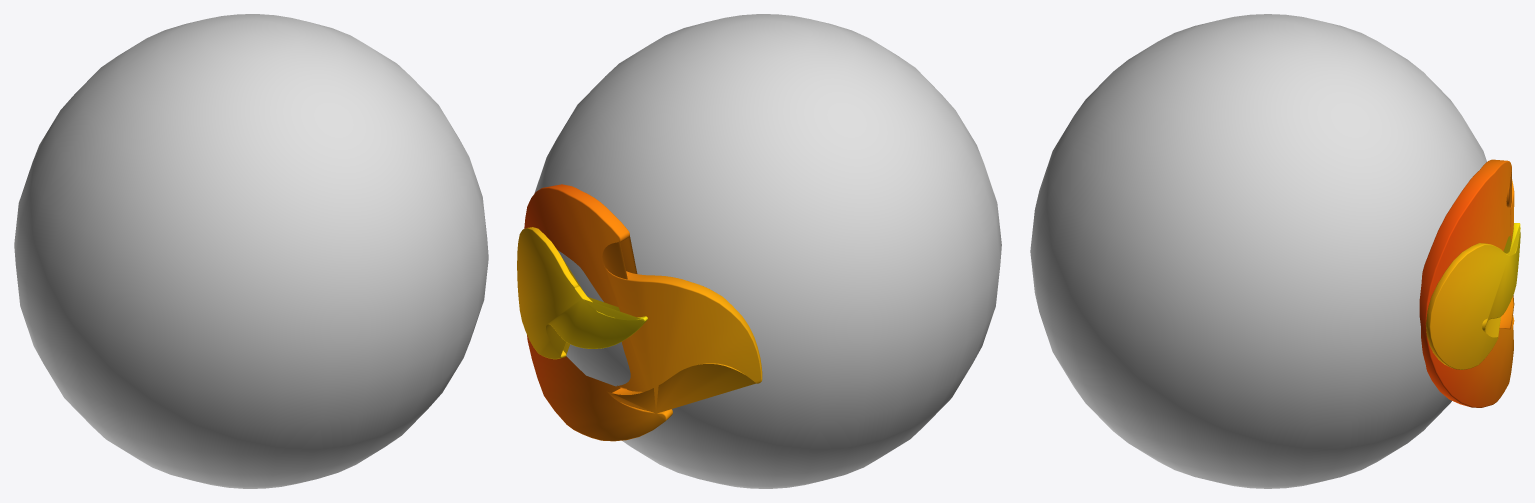
Rendered from FiredBaller.fbx.
The picture shows the model from 3 angles, left to right: view 1: azimuth 30°, elevation 25°; view 2: azimuth 150°, elevation 25°; view 3: azimuth 270°, elevation 25°; orthographic projection.
Parts seen in each view (by area): view 1: Sphere; view 2: Sphere, fire.001; view 3: Sphere, fire.001.
Boxes of the visible parts, bbox=[...] form: Sphere: bbox=[14, 14, 488, 488]; Sphere: bbox=[534, 14, 1001, 488]; fire.001: bbox=[517, 184, 762, 441]; Sphere: bbox=[1030, 14, 1486, 488]; fire.001: bbox=[1419, 159, 1520, 407].
Bounding box in the file's own units: 200 × 200 × 206.
